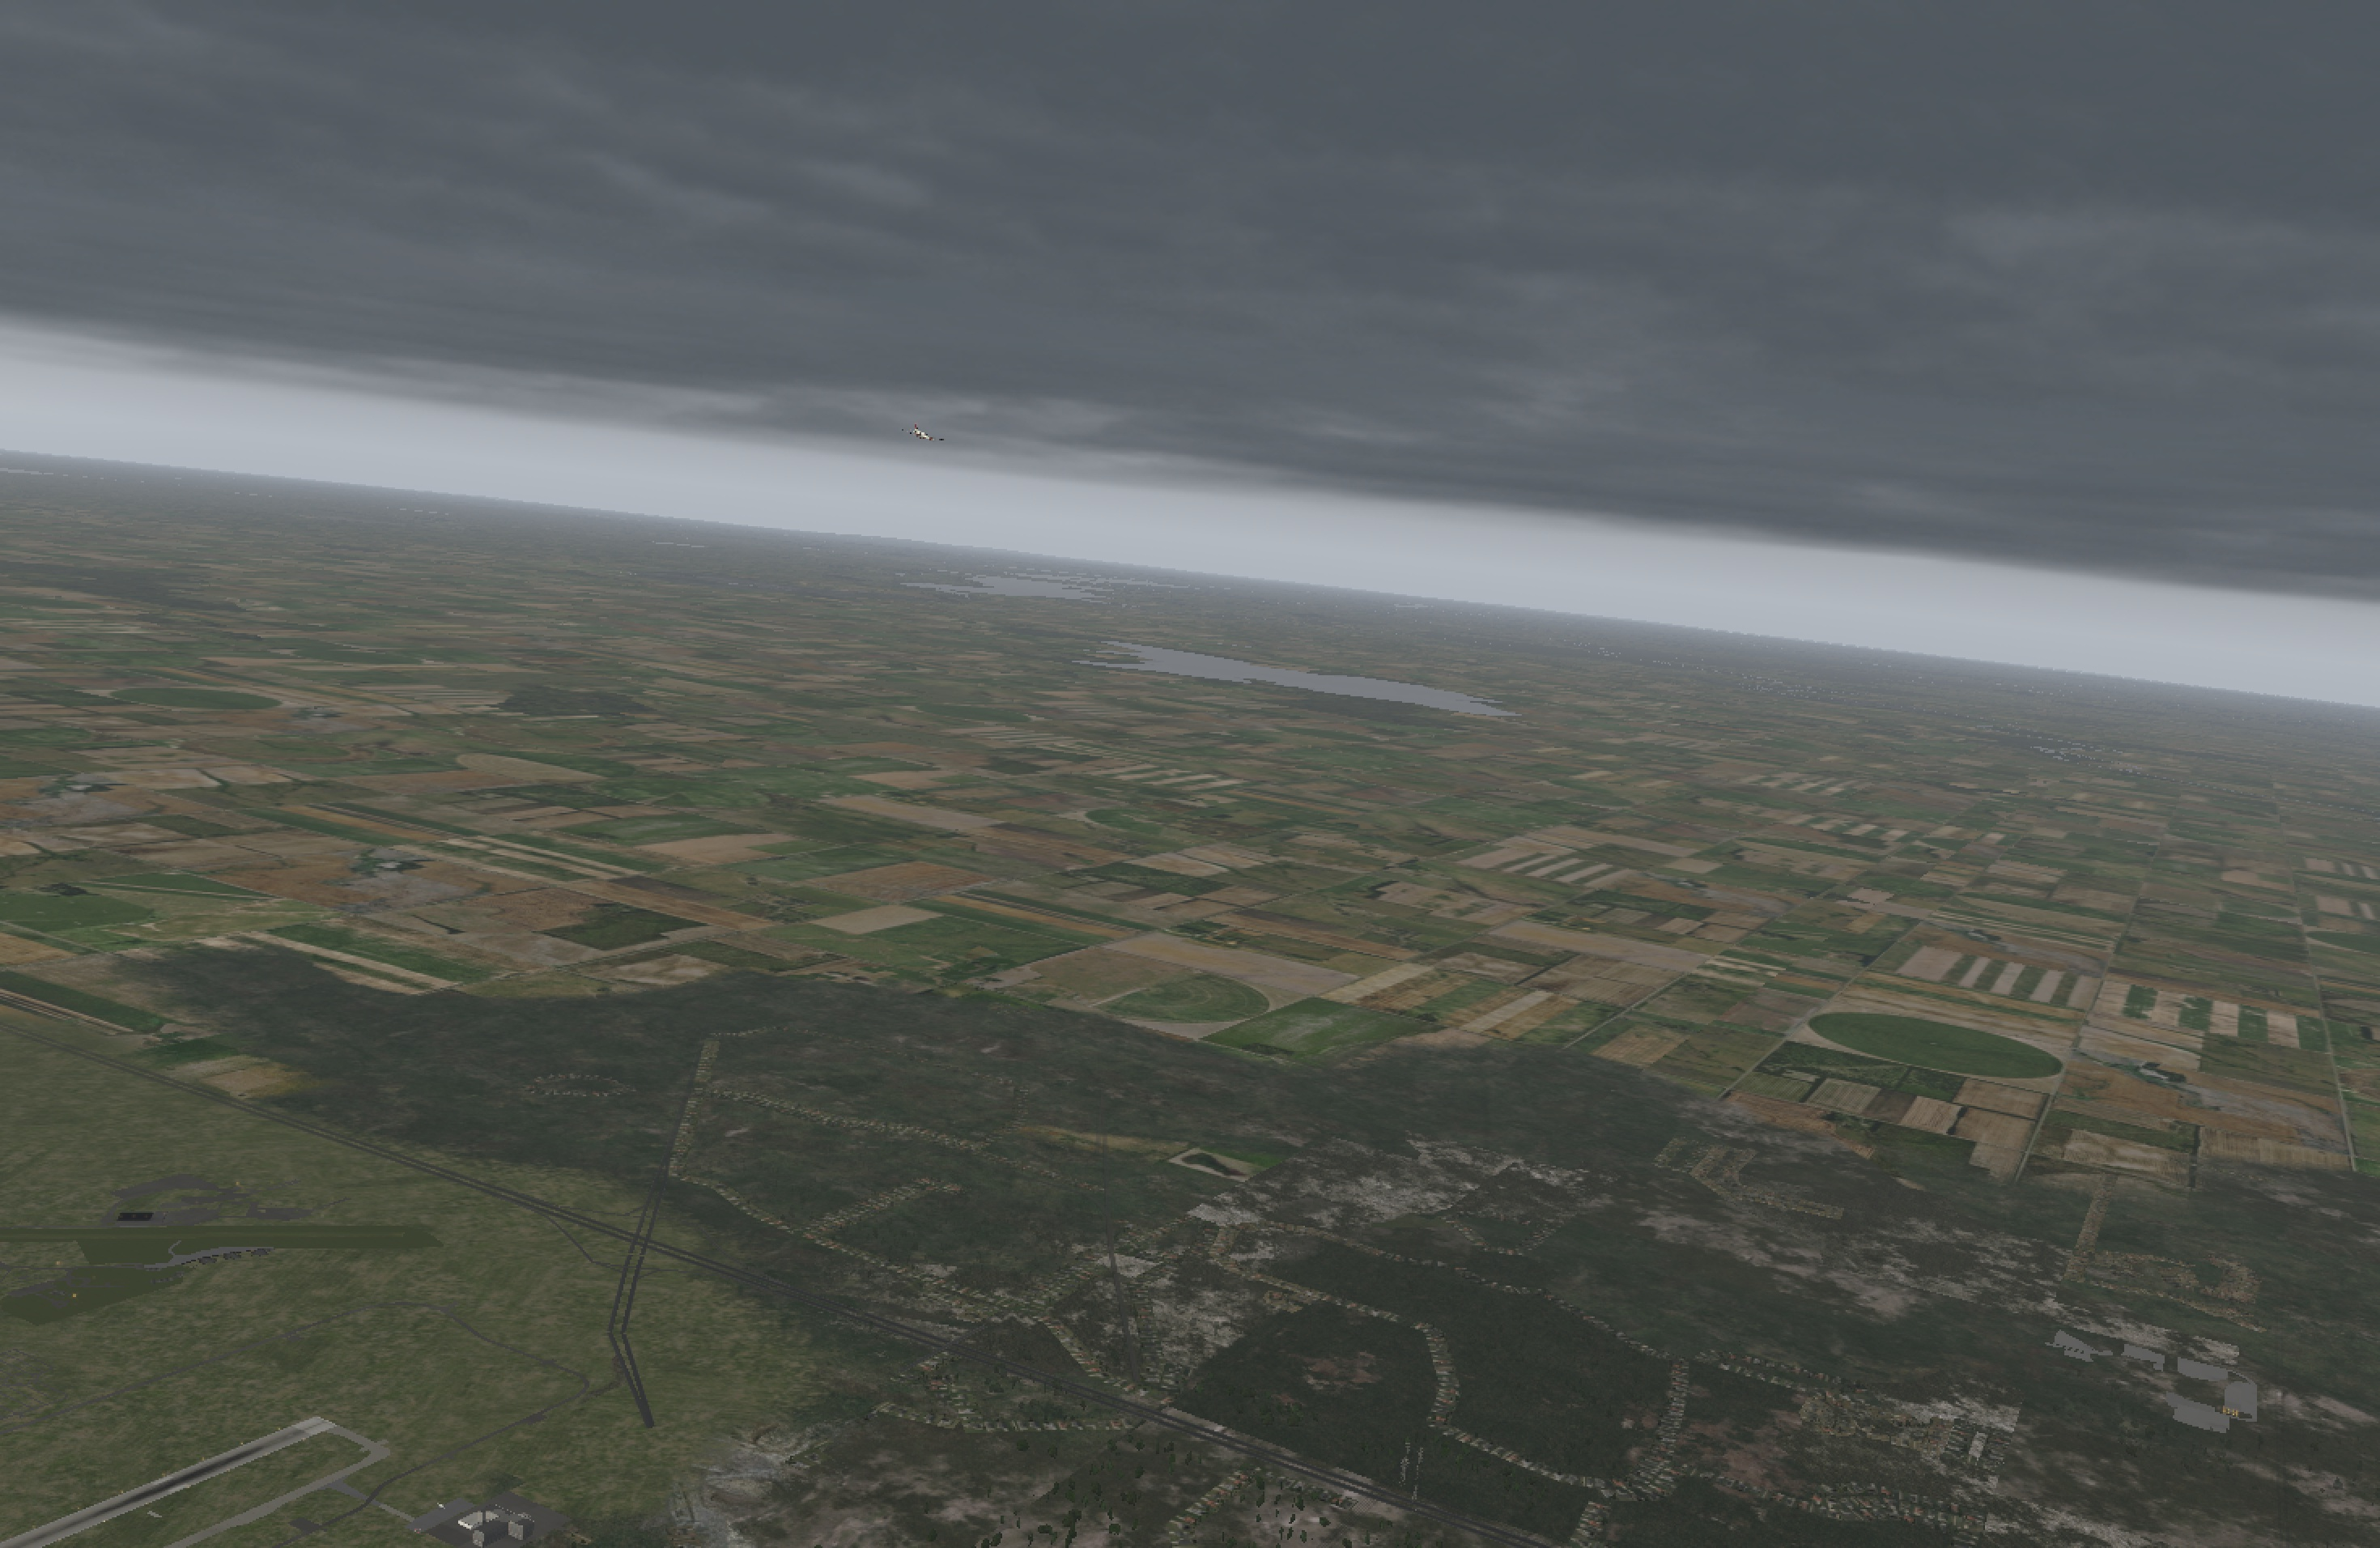aircraft: (897, 429, 949, 448)
